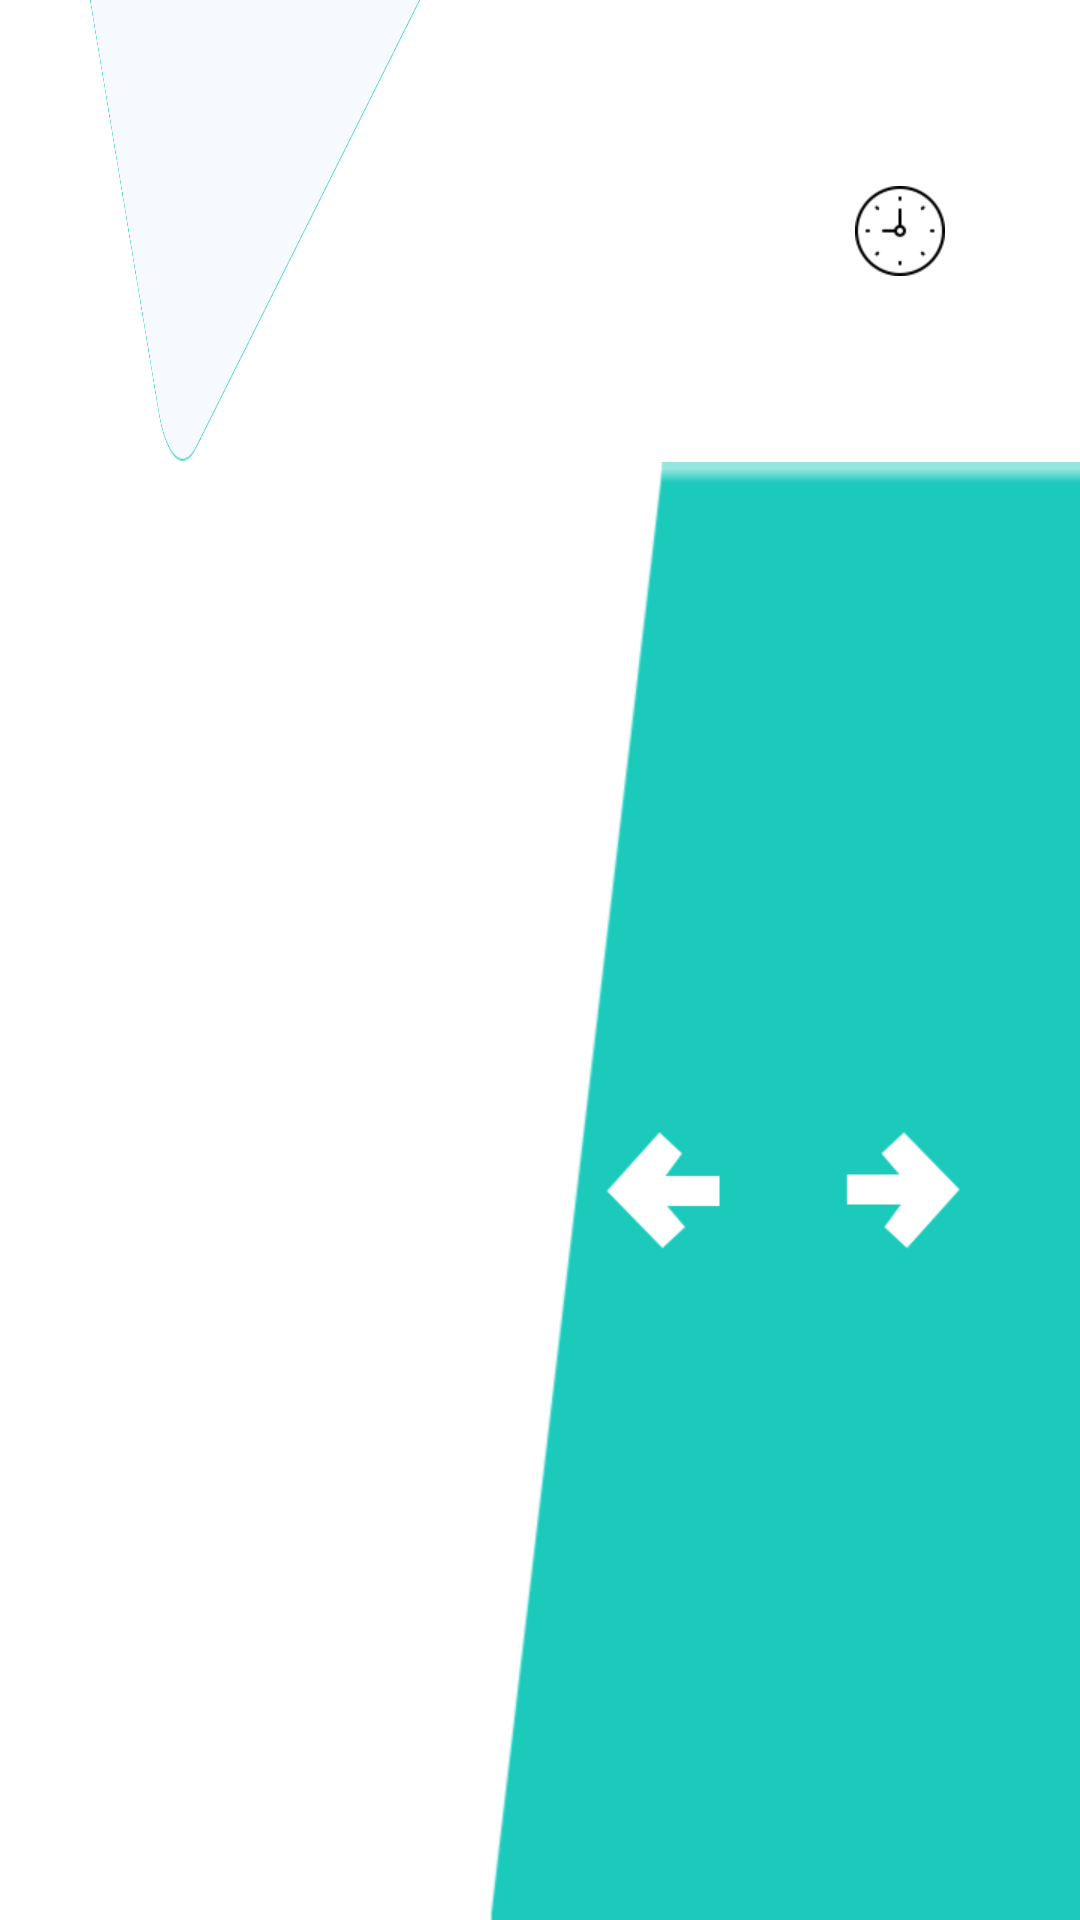

Locate icon controls on the screen. Image size 1080×1920, boxes as [x1,y1,x2,y2].
next question: [846,1132,960,1248]
previous question: [607,1132,720,1248]
